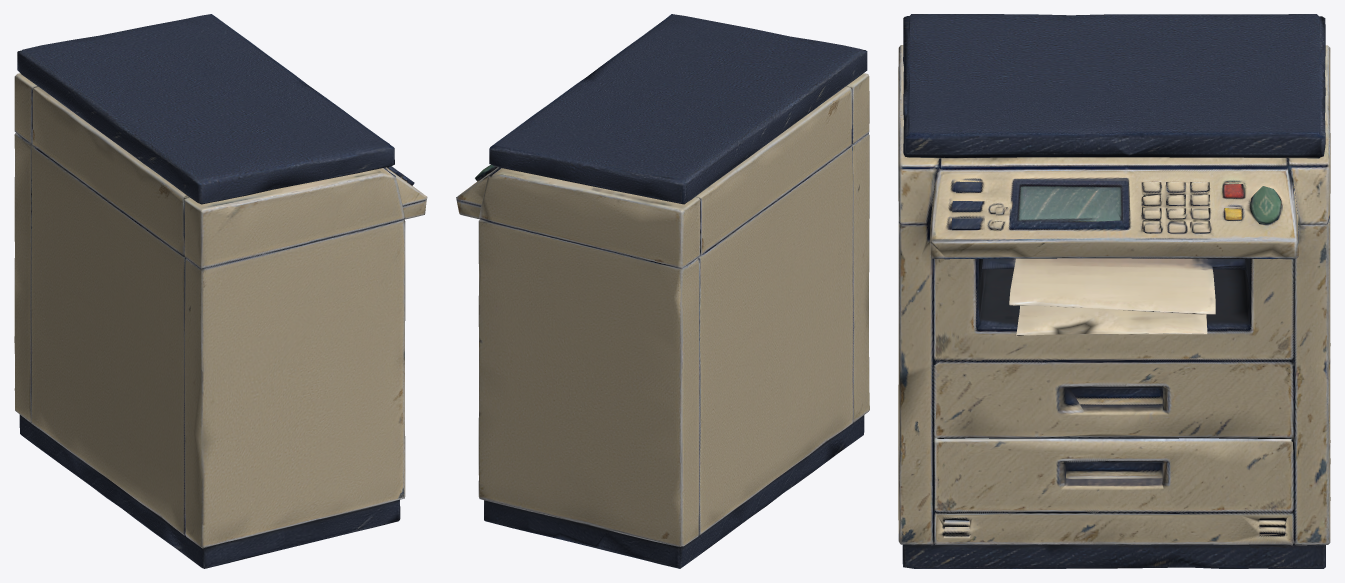
The model's file is OfficePrinterScanner.fbx.
3 views of the same model, side by side, from view 1: azimuth 30°, elevation 25°; view 2: azimuth 150°, elevation 25°; view 3: azimuth 270°, elevation 25° (orthographic). The views are drawn at different scales.
Parts seen in each view (by area): view 1: tripo_node_7ee6a3d4-e073-40d4-a30a-a9bfc922a2f3; view 2: tripo_node_7ee6a3d4-e073-40d4-a30a-a9bfc922a2f3; view 3: tripo_node_7ee6a3d4-e073-40d4-a30a-a9bfc922a2f3.
Boxes of the visible parts, x1,y1,x2,y2 form: tripo_node_7ee6a3d4-e073-40d4-a30a-a9bfc922a2f3: (14, 14, 427, 568); tripo_node_7ee6a3d4-e073-40d4-a30a-a9bfc922a2f3: (456, 14, 869, 568); tripo_node_7ee6a3d4-e073-40d4-a30a-a9bfc922a2f3: (898, 14, 1330, 568).
Bounding box in the file's own units: 64.26 × 100 × 86.71.
Materials: 1 (1 with a texture image).
